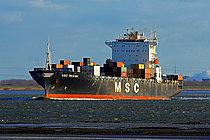Ship: (27, 26, 187, 104)
